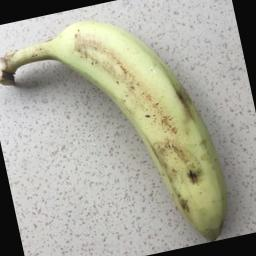Banana Ripe: (17, 0, 250, 256)
